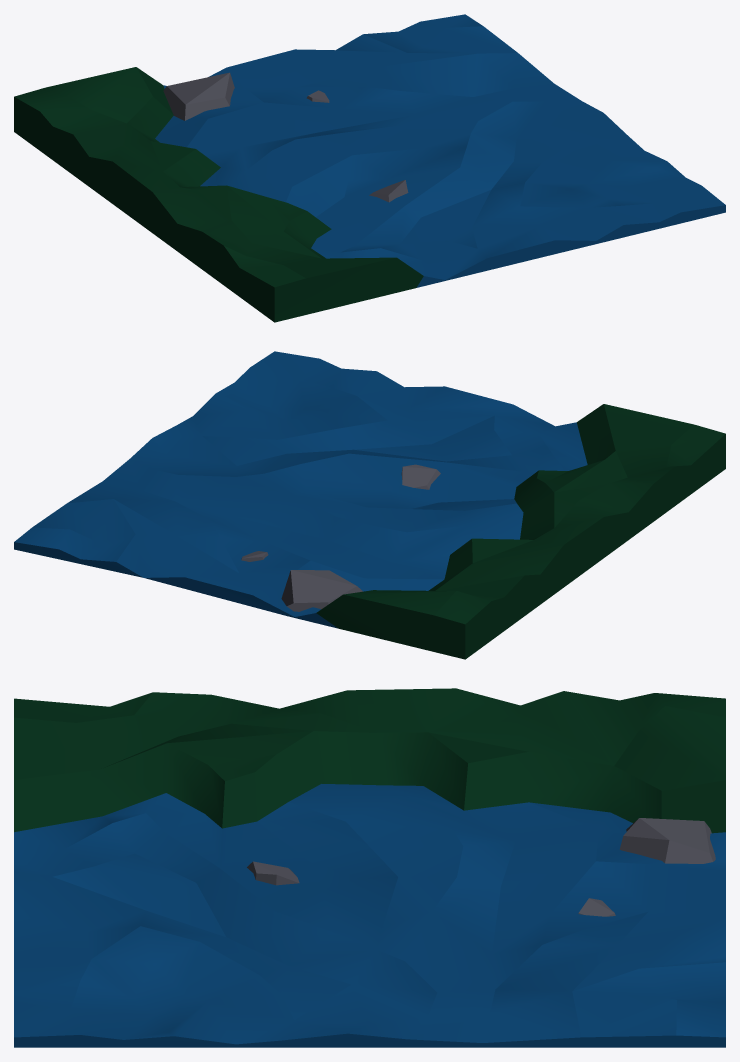
Rendered from Water_Edge_L.fbx.
3 views of the same model, one above another, from view 1: azimuth 30°, elevation 25°; view 2: azimuth 150°, elevation 25°; view 3: azimuth 270°, elevation 25° (orthographic). The views are drawn at different scales.
Parts seen in each view (by area): view 1: Water_Edge_L; view 2: Water_Edge_L; view 3: Water_Edge_L.
Part boxes in pixels (<box>): Water_Edge_L: <box>14,14,725,322</box>; Water_Edge_L: <box>14,351,725,659</box>; Water_Edge_L: <box>14,688,725,1047</box>.
Size of the model in its own units: 147 by 13.97 by 147.
